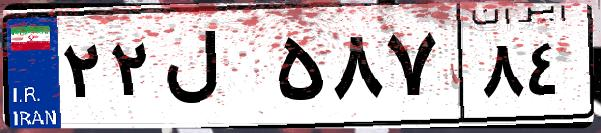2: (57, 26, 110, 100), (110, 28, 158, 98)
4: (525, 38, 570, 115)
5: (270, 28, 330, 110)
7: (385, 28, 445, 110)
8: (330, 28, 385, 110), (475, 38, 525, 113)
ل: (158, 20, 270, 120)
